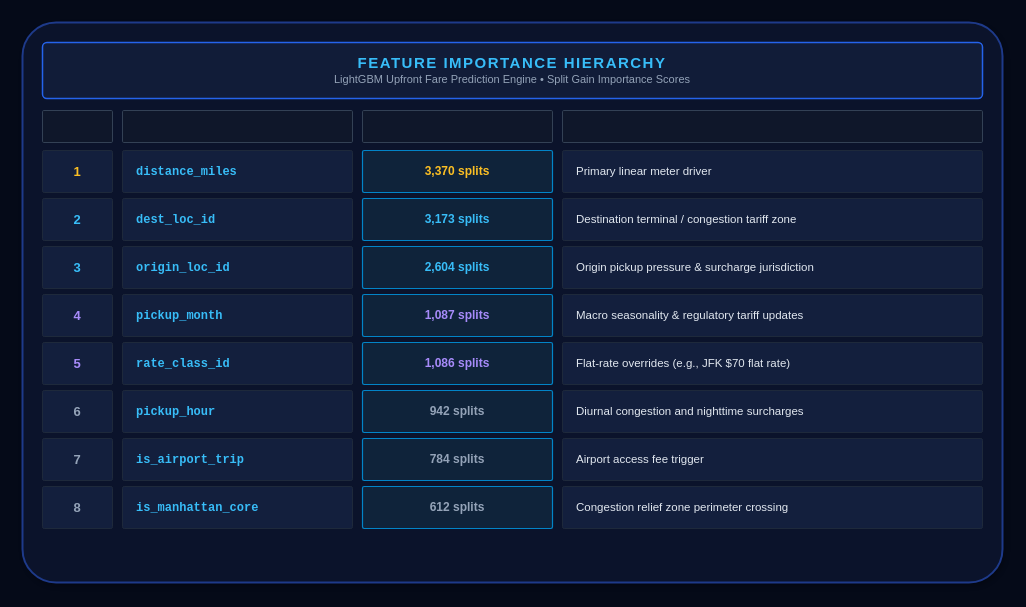
Some shapes in this 1026 by 607 pixel diagram are drawn without their labels. Each missing label, with the centre of its shape:
"FEATURE IDENTIFIER" goes at point (237, 126).
"IMPORTANCE SCORE" goes at point (457, 126).
"RANK" goes at point (77, 126).
"TECHNICAL INTERPRETATION" goes at point (772, 126).
